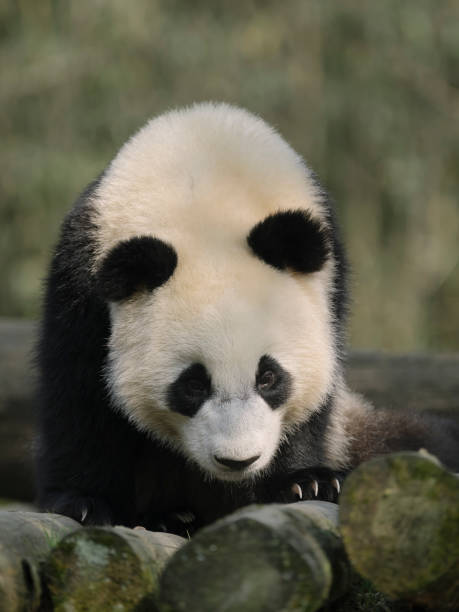panda: (69, 195, 364, 506)
